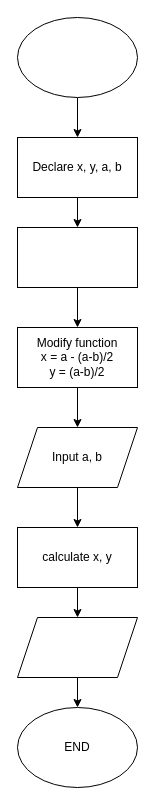
The diagram is 155 pixels wide and 805 high, and some of its shapes have lost their labels. Each missing label, with the box of its shape:
Declare function x + y = a x - y = b: (16, 226, 138, 288)
START: (16, 16, 138, 98)
Type result: (16, 616, 138, 678)
